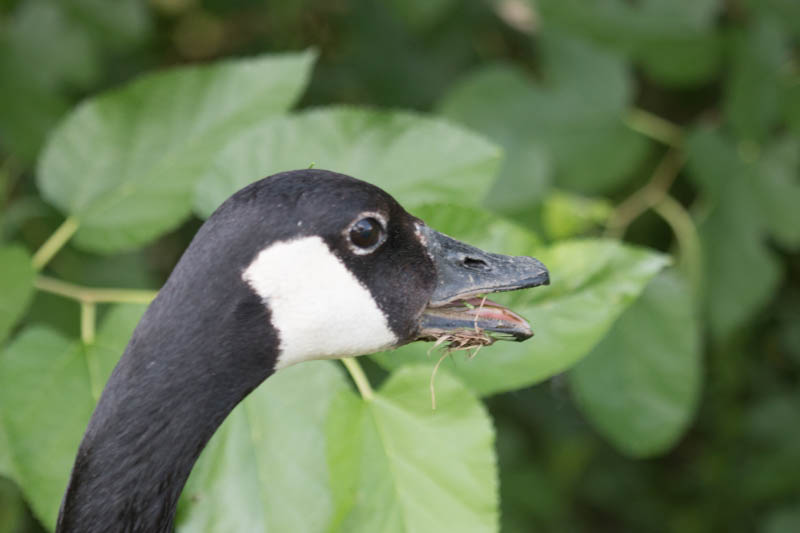goose-head: (130, 168, 551, 373)
